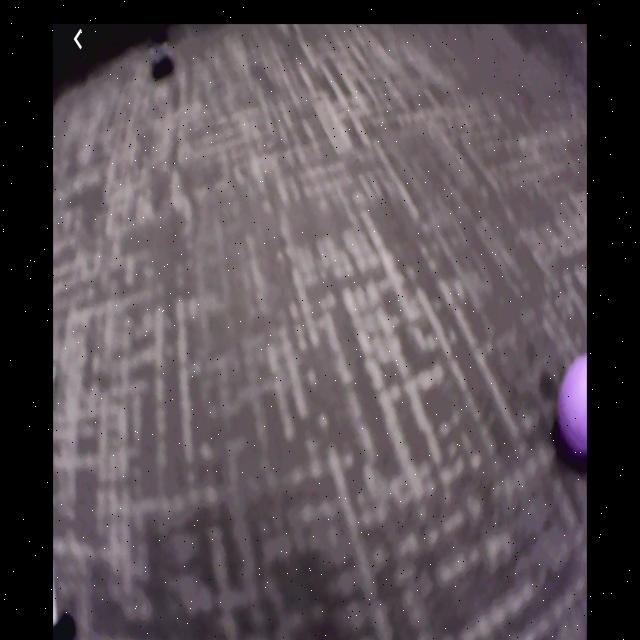ball: (559, 355, 588, 461)
